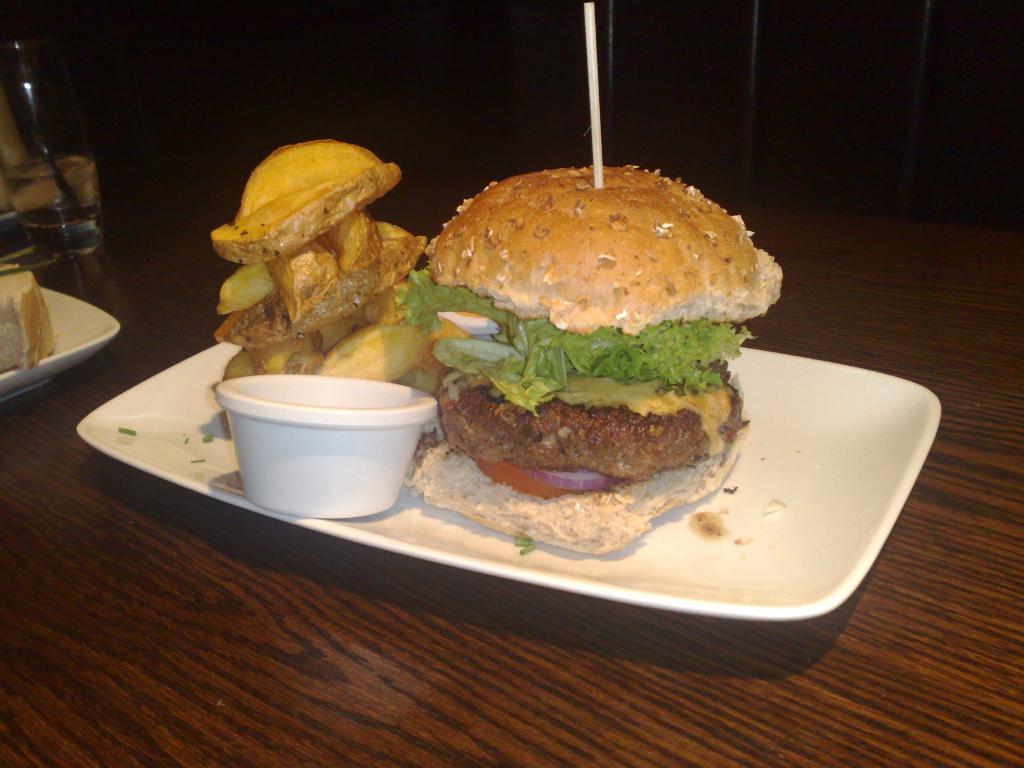Hamburger: (392, 166, 784, 552)
